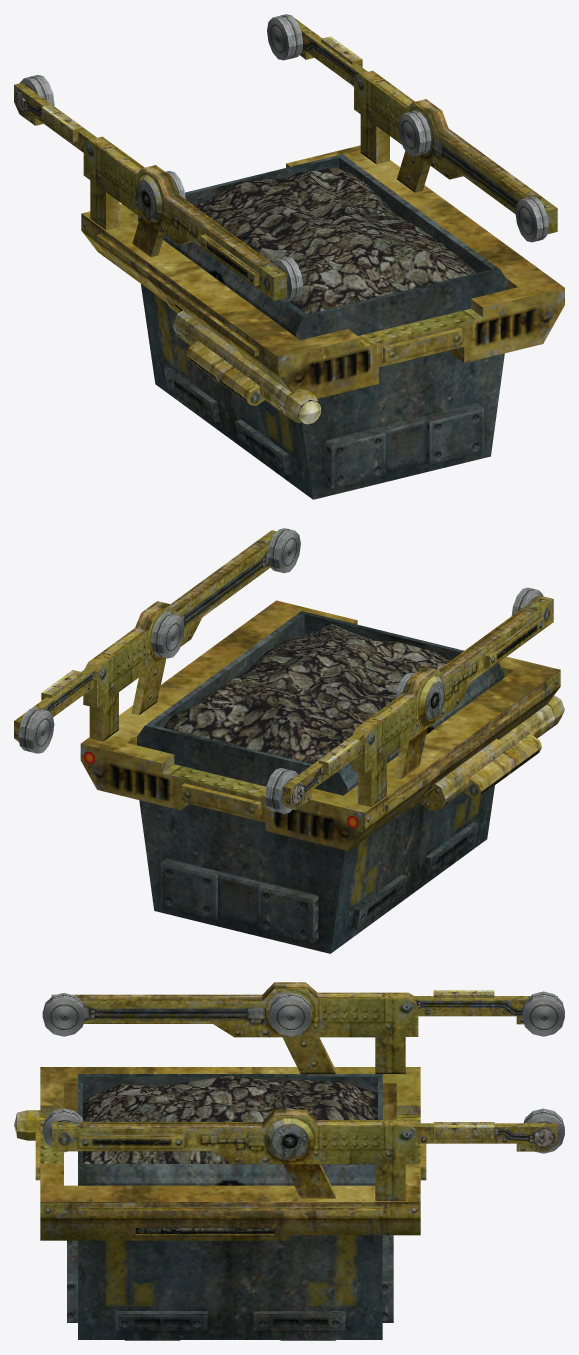
Rendered from bunker_mine_car_s01_l0.fbx.
3 views of the same model, one above another, from view 1: azimuth 30°, elevation 25°; view 2: azimuth 150°, elevation 25°; view 3: azimuth 270°, elevation 25° (orthographic). The views are drawn at different scales.
Visible parts, largest first — view 1: mesh_node; view 2: mesh_node; view 3: mesh_node.
Part boxes in pixels (left/top/right/bottom): mesh_node: left=14, top=14, right=564, bottom=499; mesh_node: left=14, top=528, right=564, bottom=953; mesh_node: left=14, top=982, right=564, bottom=1340.
Size of the model in its own units: 2.32 by 2.03 by 3.85.
